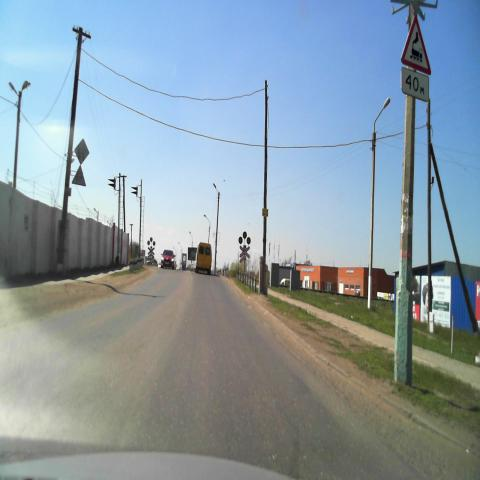8_1_1: (400, 67, 430, 102)
